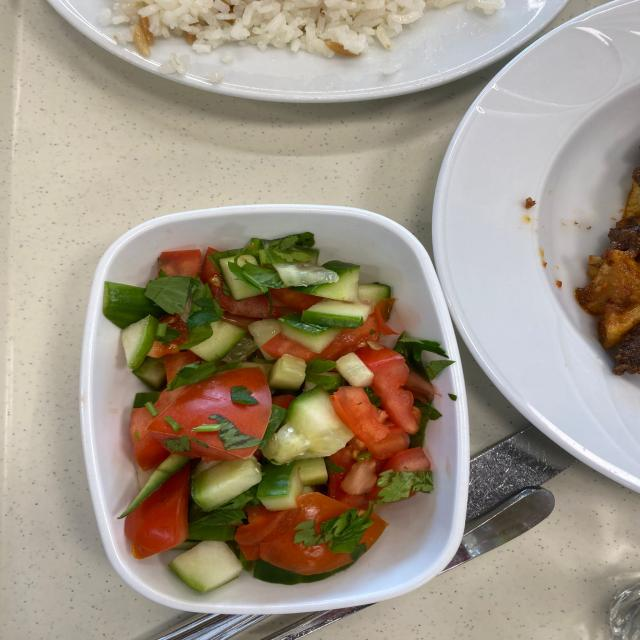yan_yemek: (100, 227, 453, 592)
